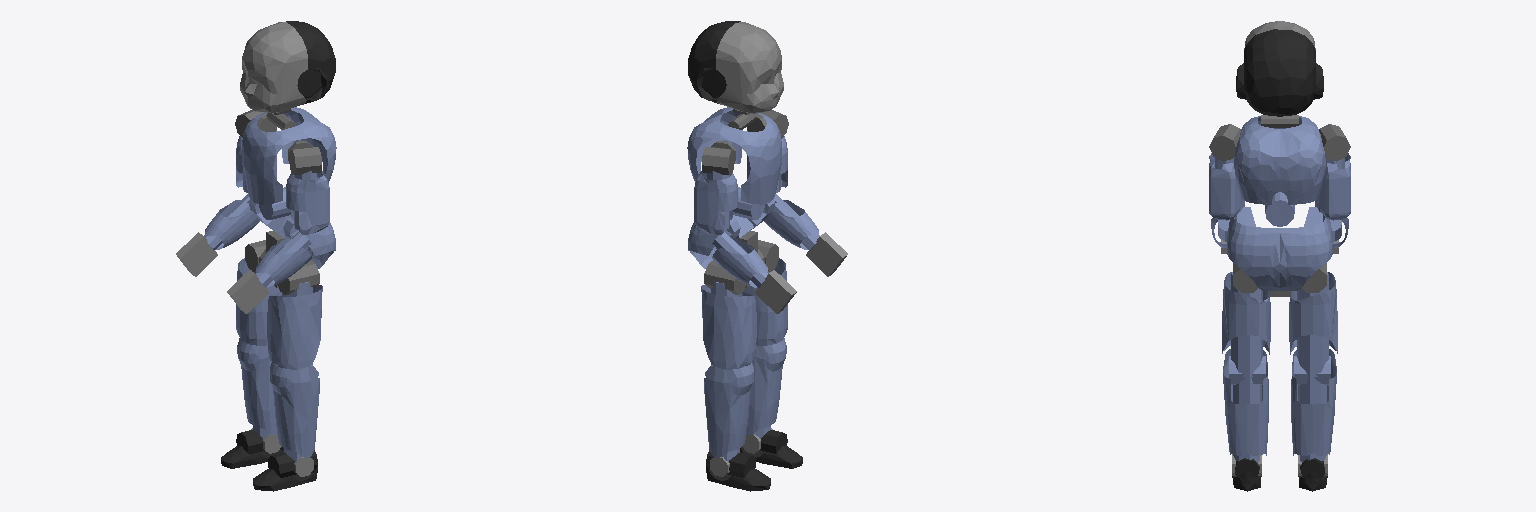
--- Render facts (derived) ---
3 views of the same robot in one strip: view 1: azimuth 30°, elevation 25°; view 2: azimuth 150°, elevation 25°; view 3: azimuth 270°, elevation 25° (orthographic).
Model iCub with 56 links and 55 joints (32 revolute, 23 fixed), rooted at base_link, posed joints at zero except 2 at the middle of their limits (l_elbow = 0.973, r_elbow = 0.973).
Links seen in each view (by area): view 1: head, chest, l_upper_leg, l_lower_leg, r_lower_leg, l_upper_arm, torso_1, l_forearm, r_forearm, l_foot, r_upper_leg, r_foot (+4 smaller); view 2: head, chest, r_upper_leg, r_lower_leg, l_lower_leg, r_upper_arm, torso_1, r_forearm, l_forearm, r_foot, l_upper_leg, l_foot (+4 smaller); view 3: torso_1, chest, head, l_upper_leg, r_upper_leg, r_lower_leg, l_lower_leg, l_upper_arm, r_upper_arm, l_shoulder_2, r_shoulder_2, l_foot (+1 smaller).
Link boxes in pixels (x1,y1,x2,y2): head: (240,21,335,112); chest: (242,107,336,204); l_upper_leg: (267,281,322,380); l_lower_leg: (270,363,319,461); r_lower_leg: (237,338,277,438); l_upper_arm: (286,171,329,234); torso_1: (247,187,335,268); l_forearm: (255,231,311,287); r_forearm: (204,194,259,250); l_foot: (253,450,317,491); r_upper_leg: (236,258,279,345); r_foot: (221,430,283,468); head: (688,21,783,113); chest: (687,107,781,204); r_upper_leg: (701,281,756,380); r_lower_leg: (704,363,753,461); l_lower_leg: (746,338,786,438); r_upper_arm: (694,171,737,234); torso_1: (688,187,776,268); r_forearm: (712,231,768,287); l_forearm: (764,194,819,250); r_foot: (706,450,770,491); l_upper_leg: (744,258,787,345); l_foot: (740,430,802,468); torso_1: (1227,192,1332,290); chest: (1234,116,1325,204); head: (1236,21,1323,116); l_upper_leg: (1222,272,1270,384); r_upper_leg: (1289,272,1337,384); r_lower_leg: (1291,349,1336,462); l_lower_leg: (1223,349,1268,462); l_upper_arm: (1209,153,1244,220); r_upper_arm: (1315,153,1350,220); l_shoulder_2: (1209,124,1240,161); r_shoulder_2: (1319,124,1350,161); l_foot: (1232,458,1261,491).
Size in the robot's own frame: 0.3134 by 0.2951 by 1.04 metres.
Meshes: 28 distinct files referenced, 28 mesh visuals loaded (28 Collada DAE).

robot.urdf — iCub:
<robot name="iCub">
    <link name="base_link" />
    <link name="chest">
        <inertial>
            <mass value="4.81" />
            <origin xyz="0.00222898 0.075 -1.18362e-17" rpy="0 -0 0" />
            <inertia ixx="0.07472" ixy="-3.6e-06" ixz="-4.705e-05" iyy="0.08145" iyz="0.004567" izz="0.01306" />
        </inertial>
        <visual>
            <origin xyz="-0.0055 -6.93889e-18 -3.55271e-18" rpy="0 -1.5708 1.5708" />
            <geometry>
                <mesh filename="app/icubGazeboSim/meshes/icub_simple_collision_chest.dae" scale="1 1 1" />
            </geometry>
            <!-- <material name="material.metal">
                <texture />
                <color rgba="0 0 0 1" />
            </material> -->
        </visual>
        <collision>
            <origin xyz="-0.0055 -6.93889e-18 -3.55271e-18" rpy="0 -1.5708 1.5708" />
            <geometry>
                <mesh filename="app/icubGazeboSim/meshes/icub_simple_collision_chest.dae" scale="1 1 1" />
            </geometry>
        </collision>
    </link>
    <link name="chest_skin_frame">
        <inertial>
            <mass value="0" />
            <origin xyz="0 0 0" rpy="0 -0 0" />
            <inertia ixx="0" ixy="0" ixz="0" iyy="0" iyz="0" izz="0" />
        </inertial>
    </link>
    <link name="codyco_balancing_world">
        <inertial>
            <mass value="0" />
            <origin xyz="0 0 0" rpy="0 -0 0" />
            <inertia ixx="0" ixy="0" ixz="0" iyy="0" iyz="0" izz="0" />
        </inertial>
    </link>
    <link name="head">
        <inertial>
            <mass value="1.33687" />
            <origin xyz="0.0185 -0.1108 6.78454e-18" rpy="0 -0 0" />
            <inertia ixx="0" ixy="0" ixz="2.40741e-35" iyy="0" iyz="0" izz="0" />
        </inertial>
        <visual>
            <origin xyz="0.0045 -0.0235 9.42472e-13" rpy="0 1.5708 -1.5708" />
            <geometry>
                <mesh filename="app/icubGazeboSim/meshes/icub_simple_collision_head.dae" scale="1 1 1" />
            </geometry>
            <!-- <material name="material.metal">
                <texture />
                <color rgba="0 0 0 1" />
            </material> -->
        </visual>
        <collision>
            <origin xyz="0.0045 -0.0235 9.42472e-13" rpy="0 1.5708 -1.5708" />
            <geometry>
                <mesh filename="app/icubGazeboSim/meshes/icub_simple_collision_head.dae" scale="1 1 1" />
            </geometry>
        </collision>
    </link>
    <link name="imu_frame">
        <inertial>
            <mass value="0" />
            <origin xyz="0 0 0" rpy="0 -0 0" />
            <inertia ixx="0" ixy="0" ixz="0" iyy="0" iyz="0" izz="0" />
        </inertial>
    </link>
    <link name="l_ankle_1">
        <inertial>
            <mass value="0.746" />
            <origin xyz="-0.0054 0.00163 0.0172" rpy="0 -0 0" />
            <inertia ixx="0.00063323" ixy="-7.081e-06" ixz="4.1421e-05" iyy="0.00068776" iyz="2.0817e-05" izz="0.000313897" />
        </inertial>
        <visual>
            <origin xyz="1.11022e-16 -5.54343e-12 4.45647e-12" rpy="1.5708 1.53106e-11 1.53105e-11" />
            <geometry>
                <mesh filename="app/icubGazeboSim/meshes/icub_simple_collision_l_ankle_1.dae" scale="1 1 1" />
            </geometry>
            <!-- <material name="material.metal">
                <texture />
                <color rgba="0 0 0 1" />
            </material> -->
        </visual>
        <collision>
            <origin xyz="1.11022e-16 -5.54343e-12 4.45647e-12" rpy="1.5708 1.53106e-11 1.53105e-11" />
            <geometry>
                <mesh filename="app/icubGazeboSim/meshes/icub_simple_collision_l_ankle_1.dae" scale="1 1 1" />
            </geometry>
        </collision>
    </link>
    <link name="l_ankle_2">
        <inertial>
            <mass value="0.2675" />
            <origin xyz="0.017 0 0.042" rpy="0 -0 0" />
            <inertia ixx="0" ixy="0" ixz="0" iyy="0" iyz="0" izz="0" />
        </inertial>
    </link>
    <link name="l_elbow_1">
        <inertial>
            <mass value="0.074" />
            <origin xyz="-0.0013 0.00371 -0.00105" rpy="0 -0 0" />
            <inertia ixx="2.8389e-05" ixy="-5.15e-07" ixz="-4.08e-07" iyy="9.244e-06" iyz="-3.71e-07" izz="2.9968e-05" />
        </inertial>
    </link>
    <link name="l_foot">
        <inertial>
            <mass value="0.5935" />
            <origin xyz="0.007069 -0.000613931 -0.0334154" rpy="0 -0 0" />
            <inertia ixx="0.00193893" ixy="-1.3505e-05" ixz="0.0001823" iyy="0.0030191" iyz="-3.30533e-06" izz="0.00162801" />
        </inertial>
        <visual>
            <origin xyz="-0.017 -5.54343e-12 -0.042" rpy="0 1.5708 -2.0414e-11" />
            <geometry>
                <mesh filename="app/icubGazeboSim/meshes/icub_simple_collision_l_foot.dae" scale="1 1 1" />
            </geometry>
            <!-- <material name="material.metal">
                <texture />
                <color rgba="0 0 0 1" />
            </material> -->
        </visual>
        <collision>
            <origin xyz="-0.017 -5.54343e-12 -0.042" rpy="0 1.5708 -2.0414e-11" />
            <geometry>
                <mesh filename="app/icubGazeboSim/meshes/icub_simple_collision_l_foot.dae" scale="1 1 1" />
            </geometry>
        </collision>
    </link>
    <link name="l_foot_dh_frame">
        <inertial>
            <mass value="0" />
            <origin xyz="0 0 0" rpy="0 -0 0" />
            <inertia ixx="0" ixy="0" ixz="0" iyy="0" iyz="0" izz="0" />
        </inertial>
    </link>
    <link name="l_forearm">
        <inertial>
            <mass value="0.525" />
            <origin xyz="0.000347 0.066 0.00476" rpy="0 -0 0" />
            <inertia ixx="0.000765393" ixy="4.337e-06" ixz="2.39e-07" iyy="0.000164578" iyz="1.9381e-05" izz="0.00069806" />
        </inertial>
        <visual>
            <origin xyz="-0.000143922 -1.25974e-12 0.0204334" rpy="0 1.5708 1.5708" />
            <geometry>
                <mesh filename="app/icubGazeboSim/meshes/icub_simple_collision_l_forearm.dae" scale="1 1 1" />
            </geometry>
            <!-- <material name="material.metal">
                <texture />
                <color rgba="0 0 0 1" />
            </material> -->
        </visual>
        <collision>
            <origin xyz="-0.000143922 -1.25974e-12 0.0204334" rpy="0 1.5708 1.5708" />
            <geometry>
                <mesh filename="app/icubGazeboSim/meshes/icub_simple_collision_l_forearm.dae" scale="1 1 1" />
            </geometry>
        </collision>
    </link>
    <link name="l_forearm_dh_frame">
        <inertial>
            <mass value="0" />
            <origin xyz="0 0 0" rpy="0 -0 0" />
            <inertia ixx="0" ixy="0" ixz="0" iyy="0" iyz="0" izz="0" />
        </inertial>
    </link>
    <link name="l_gripper">
        <inertial>
            <mass value="0" />
            <origin xyz="0 0 0" rpy="0 -0 0" />
            <inertia ixx="0" ixy="0" ixz="0" iyy="0" iyz="0" izz="0" />
        </inertial>
    </link>
    <link name="l_hand">
        <inertial>
            <mass value="0.213" />
            <origin xyz="0.07023 -0.00805 -0.007" rpy="0 -0 0" />
            <inertia ixx="0.000157143" ixy="1.278e-05" ixz="4.823e-06" iyy="0.000247995" iyz="-1.8188e-05" izz="0.000380535" />
        </inertial>
        <visual>
            <origin xyz="-1.25973e-12 0.0204334 -0.000143922" rpy="5.10271e-12 -2.64186e-12 1.49622e-11" />
            <geometry>
                <mesh filename="app/icubGazeboSim/meshes/icub_simple_collision_l_hand.dae" scale="1 1 1" />
            </geometry>
            <!-- <material name="material.metal">
                <texture />
                <color rgba="0 0 0 1" />
            </material> -->
        </visual>
        <collision>
            <origin xyz="-1.25973e-12 0.0204334 -0.000143922" rpy="5.10271e-12 -2.64186e-12 1.49622e-11" />
            <geometry>
                <mesh filename="app/icubGazeboSim/meshes/icub_simple_collision_l_hand.dae" scale="1 1 1" />
            </geometry>
        </collision>
    </link>
    <link name="l_hand_dh_frame">
        <inertial>
            <mass value="0" />
            <origin xyz="0 0 0" rpy="0 -0 0" />
            <inertia ixx="0" ixy="0" ixz="0" iyy="0" iyz="0" izz="0" />
        </inertial>
    </link>
    <link name="l_hip_1">
        <inertial>
            <mass value="0.754" />
            <origin xyz="0 -0.0782 0" rpy="0 -0 0" />
            <inertia ixx="0.000471076" ixy="2.059e-06" ixz="1.451e-06" iyy="0.000346478" iyz="1.545e-06" izz="0.000510315" />
        </inertial>
        <visual>
            <origin xyz="0 0 0" rpy="0 1.5708 -1.5708" />
            <geometry>
                <mesh filename="app/icubGazeboSim/meshes/icub_simple_collision_l_hip_1.dae" scale="1 1 1" />
            </geometry>
            <!-- <material name="material.metal">
                <texture />
                <color rgba="0 0 0 1" />
            </material> -->
        </visual>
        <collision>
            <origin xyz="0 0 0" rpy="0 1.5708 -1.5708" />
            <geometry>
                <mesh filename="app/icubGazeboSim/meshes/icub_simple_collision_l_hip_1.dae" scale="1 1 1" />
            </geometry>
        </collision>
    </link>
    <link name="l_hip_2">
        <inertial>
            <mass value="0.526" />
            <origin xyz="0 0 0.03045" rpy="0 -0 0" />
            <inertia ixx="0.000561583" ixy="-7.4e-08" ixz="1.0835e-05" iyy="0.000738049" iyz="-6.2e-08" izz="0.000294119" />
        </inertial>
        <visual>
            <origin xyz="0 0 0" rpy="0 -1.5708 3.14159" />
            <geometry>
                <mesh filename="app/icubGazeboSim/meshes/icub_simple_collision_l_hip_2.dae" scale="1 1 1" />
            </geometry>
            <!-- <material name="material.metal">
                <texture />
                <color rgba="0 0 0 1" />
            </material> -->
        </visual>
        <collision>
            <origin xyz="0 0 0" rpy="0 -1.5708 3.14159" />
            <geometry>
                <mesh filename="app/icubGazeboSim/meshes/icub_simple_collision_l_hip_2.dae" scale="1 1 1" />
            </geometry>
        </collision>
    </link>
    <link name="l_hip_3">
        <inertial>
            <mass value="0" />
            <origin xyz="0 0 0" rpy="0 -0 0" />
            <inertia ixx="0" ixy="0" ixz="0" iyy="0" iyz="0" izz="0" />
        </inertial>
    </link>
    <link name="l_lower_leg">
        <inertial>
            <mass value="1.264" />
            <origin xyz="-0.1071 0.00182 0.00211" rpy="0 -0 0" />
            <inertia ixx="0.00099895" ixy="-0.000185699" ixz="-6.3147e-05" iyy="0.00445054" iyz="7.86e-07" izz="0.00420766" />
        </inertial>
        <visual>
            <origin xyz="5.55112e-17 2.28232e-12 2.2823e-12" rpy="-3.14159 -2.33487e-16 1.5708" />
            <geometry>
                <mesh filename="app/icubGazeboSim/meshes/icub_simple_collision_l_shank.dae" scale="1 1 1" />
            </geometry>
            <!-- <material name="material.metal">
                <texture />
                <color rgba="0 0 0 1" />
            </material> -->
        </visual>
        <collision>
            <origin xyz="5.55112e-17 2.28232e-12 2.2823e-12" rpy="-3.14159 -2.33487e-16 1.5708" />
            <geometry>
                <mesh filename="app/icubGazeboSim/meshes/icub_simple_collision_l_shank.dae" scale="1 1 1" />
            </geometry>
        </collision>
    </link>
    <link name="l_shoulder_1">
        <inertial>
            <mass value="0.189" />
            <origin xyz="-5e-06 0.0187 -0.00119" rpy="0 -0 0" />
            <inertia ixx="5.4421e-05" ixy="9e-09" ixz="0" iyy="9.331e-06" iyz="-1.7e-08" izz="5.4862e-05" />
        </inertial>
        <visual>
            <origin xyz="3.08642e-14 0.109285 -0.00521101" rpy="0 1.5708 -1.5708" />
            <geometry>
                <mesh filename="app/icubGazeboSim/meshes/icub_simple_collision_l_shoulder_1.dae" scale="1 1 1" />
            </geometry>
            <!-- <material name="material.metal">
                <texture />
                <color rgba="0 0 0 1" />
            </material> -->
        </visual>
        <collision>
            <origin xyz="3.08642e-14 0.109285 -0.00521101" rpy="0 1.5708 -1.5708" />
            <geometry>
                <mesh filename="app/icubGazeboSim/meshes/icub_simple_collision_l_shoulder_1.dae" scale="1 1 1" />
            </geometry>
        </collision>
    </link>
    <link name="l_shoulder_2">
        <inertial>
            <mass value="0.179" />
            <origin xyz="9.4e-05 -0.00627 0.0166" rpy="0 -0 0" />
            <inertia ixx="0.0001372" ixy="4.66e-07" ixz="3.65e-07" iyy="8.2927e-05" iyz="-2.0524e-05" izz="9.9274e-05" />
        </inertial>
        <visual>
            <origin xyz="-0.00154529 -0.00521101 -1.11181e-12" rpy="0 1.5708 1.5708" />
            <geometry>
                <mesh filename="app/icubGazeboSim/meshes/icub_simple_collision_l_shoulder_2.dae" scale="1 1 1" />
            </geometry>
            <!-- <material name="material.metal">
                <texture />
                <color rgba="0 0 0 1" />
            </material> -->
        </visual>
        <collision>
            <origin xyz="-0.00154529 -0.00521101 -1.11181e-12" rpy="0 1.5708 1.5708" />
            <geometry>
                <mesh filename="app/icubGazeboSim/meshes/icub_simple_collision_l_shoulder_2.dae" scale="1 1 1" />
            </geometry>
        </collision>
    </link>
    <link name="l_shoulder_3">
        <inertial>
            <mass value="0.156157" />
            <origin xyz="0.00559398 9.77357e-05 0.0501346" rpy="0 -0 0" />
            <inertia ixx="4.84118e-05" ixy="-5.662e-08" ixz="-4.3618e-06" iyy="5.79067e-05" iyz="-7.42844e-07" izz="6.7103e-05" />
        </inertial>
    </link>
    <link name="l_sole">
        <inertial>
            <mass value="0" />
            <origin xyz="0 0 0" rpy="0 -0 0" />
            <inertia ixx="0" ixy="0" ixz="0" iyy="0" iyz="0" izz="0" />
        </inertial>
    </link>
    <link name="l_upper_arm">
        <inertial>
            <mass value="0.727843" />
            <origin xyz="-0.000156 -9.87e-05 0.0298" rpy="0 -0 0" />
            <inertia ixx="0.000408" ixy="-1.08e-06" ixz="-2.29e-06" iyy="0.00038" iyz="3.57e-06" izz="0.00026" />
        </inertial>
        <visual>
            <origin xyz="-0.0204334 0.000143922 -0.068" rpy="1.15274e-11 4.92958e-12 -1.309" />
            <geometry>
                <mesh filename="app/icubGazeboSim/meshes/icub_simple_collision_l_arm.dae" scale="1 1 1" />
            </geometry>
            <!-- <material name="material.metal">
                <texture />
                <color rgba="0 0 0 1" />
            </material> -->
        </visual>
        <collision>
            <origin xyz="-0.0204334 0.000143922 -0.068" rpy="1.15274e-11 4.92958e-12 -1.309" />
            <geometry>
                <mesh filename="app/icubGazeboSim/meshes/icub_simple_collision_l_arm.dae" scale="1 1 1" />
            </geometry>
        </collision>
    </link>
    <link name="l_upper_arm_dh_frame">
        <inertial>
            <mass value="0" />
            <origin xyz="0 0 0" rpy="0 -0 0" />
            <inertia ixx="0" ixy="0" ixz="0" iyy="0" iyz="0" izz="0" />
        </inertial>
    </link>
    <link name="l_upper_leg">
        <inertial>
            <mass value="2.175" />
            <origin xyz="0.00144 -0.15943 -0.00039" rpy="0 -0 0" />
            <inertia ixx="0.00759107" ixy="-6.726e-05" ixz="2.267e-06" iyy="0.00142302" iyz="3.63726e-05" izz="0.00755385" />
        </inertial>
        <visual>
            <origin xyz="0 0 0" rpy="0 1.5708 1.5708" />
            <geometry>
                <mesh filename="app/icubGazeboSim/meshes/icub_simple_collision_l_thigh.dae" scale="1 1 1" />
            </geometry>
            <!-- <material name="material.metal">
                <texture />
                <color rgba="0 0 0 1" />
            </material> -->
        </visual>
        <collision>
            <origin xyz="0 0 0" rpy="0 1.5708 1.5708" />
            <geometry>
                <mesh filename="app/icubGazeboSim/meshes/icub_simple_collision_l_thigh.dae" scale="1 1 1" />
            </geometry>
        </collision>
    </link>
    <link name="l_wrist_1">
        <inertial>
            <mass value="0" />
            <origin xyz="0 0 0" rpy="0 -0 0" />
            <inertia ixx="0" ixy="0" ixz="0" iyy="0" iyz="0" izz="0" />
        </inertial>
    </link>
    <link name="neck_1">
        <inertial>
            <mass value="0" />
            <origin xyz="0 0 0" rpy="0 -0 0" />
            <inertia ixx="0" ixy="0" ixz="0" iyy="0" iyz="0" izz="0" />
        </inertial>
        <visual>
            <origin xyz="-5.55112e-17 9.62889e-13 -0.0055" rpy="0 -1.5708 -1.5708" />
            <geometry>
                <mesh filename="app/icubGazeboSim/meshes/icub_simple_collision_neck_1.dae" scale="1 1 1" />
            </geometry>
            <!-- <material name="material.metal">
                <texture />
                <color rgba="0 0 0 1" />
            </material> -->
        </visual>
        <collision>
            <origin xyz="-5.55112e-17 9.62889e-13 -0.0055" rpy="0 -1.5708 -1.5708" />
            <geometry>
                <mesh filename="app/icubGazeboSim/meshes/icub_simple_collision_neck_1.dae" scale="1 1 1" />
            </geometry>
        </collision>
    </link>
    <link name="neck_2">
        <inertial>
            <mass value="0" />
            <origin xyz="0 0 0" rpy="0 -0 0" />
            <inertia ixx="0" ixy="0" ixz="0" iyy="0" iyz="0" izz="0" />
        </inertial>
        <visual>
            <origin xyz="-9.62885e-13 0.0055 0.0235" rpy="0 -1.5708 1.5708" />
            <geometry>
                <mesh filename="app/icubGazeboSim/meshes/icub_simple_collision_neck_2.dae" scale="1 1 1" />
            </geometry>
            <!-- <material name="material.metal">
                <texture />
                <color rgba="0 0 0 1" />
            </material> -->
        </visual>
        <collision>
            <origin xyz="-9.62885e-13 0.0055 0.0235" rpy="0 -1.5708 1.5708" />
            <geometry>
                <mesh filename="app/icubGazeboSim/meshes/icub_simple_collision_neck_2.dae" scale="1 1 1" />
            </geometry>
        </collision>
    </link>
    <link name="r_ankle_1">
        <inertial>
            <mass value="0.746" />
            <origin xyz="-0.0054 0.00163 -0.0172" rpy="0 -0 0" />
            <inertia ixx="2.71051e-20" ixy="-1.69407e-21" ixz="1.35525e-20" iyy="5.42101e-20" iyz="3.38813e-21" izz="1.35525e-20" />
        </inertial>
        <visual>
            <origin xyz="1.11022e-16 -1.08717e-12 -4.45647e-12" rpy="-1.5708 -1.53106e-11 5.10376e-12" />
            <geometry>
                <mesh filename="app/icubGazeboSim/meshes/icub_simple_collision_r_ankle_1.dae" scale="1 1 1" />
            </geometry>
            <!-- <material name="material.metal">
                <texture />
                <color rgba="0 0 0 1" />
            </material> -->
        </visual>
        <collision>
            <origin xyz="1.11022e-16 -1.08717e-12 -4.45647e-12" rpy="-1.5708 -1.53106e-11 5.10376e-12" />
            <geometry>
                <mesh filename="app/icubGazeboSim/meshes/icub_simple_collision_r_ankle_1.dae" scale="1 1 1" />
            </geometry>
        </collision>
    </link>
    <link name="r_ankle_2">
        <inertial>
            <mass value="0.2675" />
            <origin xyz="0.017 0 0.042" rpy="0 -0 0" />
            <inertia ixx="0" ixy="0" ixz="0" iyy="0" iyz="0" izz="0" />
        </inertial>
    </link>
    <link name="r_elbow_1">
        <inertial>
            <mass value="0.074" />
            <origin xyz="0.0013 -0.00371 0.00105" rpy="0 -0 0" />
            <inertia ixx="2.84e-05" ixy="-5.02e-07" ixz="-3.99e-07" iyy="9.24e-06" iyz="-3.71e-07" izz="2.99e-05" />
        </inertial>
    </link>
    <link name="r_foot">
        <inertial>
            <mass value="0.5935" />
            <origin xyz="0.007069 0.000613931 -0.0334154" rpy="0 -0 0" />
            <inertia ixx="0.00193893" ixy="1.3505e-05" ixz="0.0001823" iyy="0.0030191" iyz="3.30551e-06" izz="0.00162801" />
        </inertial>
        <visual>
            <origin xyz="-0.017 1.08717e-12 -0.042" rpy="0 1.5708 3.14159" />
            <geometry>
                <mesh filename="app/icubGazeboSim/meshes/icub_simple_collision_r_foot.dae" scale="1 1 1" />
            </geometry>
            <!-- <material name="material.metal">
                <texture />
                <color rgba="0 0 0 1" />
            </material> -->
        </visual>
        <collision>
            <origin xyz="-0.017 1.08717e-12 -0.042" rpy="0 1.5708 3.14159" />
            <geometry>
                <mesh filename="app/icubGazeboSim/meshes/icub_simple_collision_r_foot.dae" scale="1 1 1" />
            </geometry>
        </collision>
    </link>
    <link name="r_foot_dh_frame">
        <inertial>
            <mass value="0" />
            <origin xyz="0 0 0" rpy="0 -0 0" />
            <inertia ixx="0" ixy="0" ixz="0" iyy="0" iyz="0" izz="0" />
        </inertial>
    </link>
    <link name="r_forearm">
        <inertial>
            <mass value="0.525" />
            <origin xyz="-0.000347 -0.066 -0.00476" rpy="0 -0 0" />
            <inertia ixx="0.000766" ixy="5.66e-06" ixz="1.4e-06" iyy="0.000164" iyz="1.82e-05" izz="0.000699" />
        </inertial>
        <visual>
            <origin xyz="0.000143922 -1.07214e-12 -0.0204334" rpy="0 1.5708 1.5708" />
            <geometry>
                <mesh filename="app/icubGazeboSim/meshes/icub_simple_collision_r_forearm.dae" scale="1 1 1" />
            </geometry>
            <!-- <material name="material.metal">
                <texture />
                <color rgba="0 0 0 1" />
            </material> -->
        </visual>
        <collision>
            <origin xyz="0.000143922 -1.07214e-12 -0.0204334" rpy="0 1.5708 1.5708" />
            <geometry>
                <mesh filename="app/icubGazeboSim/meshes/icub_simple_collision_r_forearm.dae" scale="1 1 1" />
            </geometry>
        </collision>
    </link>
    <link name="r_forearm_dh_frame">
        <inertial>
            <mass value="0" />
            <origin xyz="0 0 0" rpy="0 -0 0" />
            <inertia ixx="0" ixy="0" ixz="0" iyy="0" iyz="0" izz="0" />
        </inertial>
    </link>
    <link name="r_gripper">
        <inertial>
            <mass value="0" />
            <origin xyz="0 0 0" rpy="0 -0 0" />
            <inertia ixx="0" ixy="0" ixz="0" iyy="0" iyz="0" izz="0" />
        </inertial>
    </link>
    <link name="r_hand">
        <inertial>
            <mass value="0.213" />
            <origin xyz="0.07023 -0.00805 0.007" rpy="0 -0 0" />
            <inertia ixx="0.000154" ixy="1.26e-05" ixz="-6.08e-06" iyy="0.00025" iyz="1.76e-05" izz="0.000378" />
        </inertial>
        <visual>
            <origin xyz="1.0721e-12 0.0204334 0.000143922" rpy="1.53098e-11 2.00656e-11 -3.14159" />
            <geometry>
                <mesh filename="app/icubGazeboSim/meshes/icub_simple_collision_r_hand.dae" scale="1 1 1" />
            </geometry>
            <!-- <material name="material.metal">
                <texture />
                <color rgba="0 0 0 1" />
            </material> -->
        </visual>
        <collision>
            <origin xyz="1.0721e-12 0.0204334 0.000143922" rpy="1.53098e-11 2.00656e-11 -3.14159" />
            <geometry>
                <mesh filename="app/icubGazeboSim/meshes/icub_simple_collision_r_hand.dae" scale="1 1 1" />
            </geometry>
        </collision>
    </link>
    <link name="r_hand_dh_frame">
        <inertial>
            <mass value="0" />
            <origin xyz="0 0 0" rpy="0 -0 0" />
            <inertia ixx="0" ixy="0" ixz="0" iyy="0" iyz="0" izz="0" />
        </inertial>
    </link>
    <link name="r_hip_1">
        <inertial>
            <mass value="0.754" />
            <origin xyz="0 -0.0782 0" rpy="0 -0 0" />
            <inertia ixx="0" ixy="0" ixz="0" iyy="0" iyz="0" izz="0" />
        </inertial>
        <visual>
            <origin xyz="0 0 0" rpy="0 -1.5708 -1.5708" />
            <geometry>
                <mesh filename="app/icubGazeboSim/meshes/icub_simple_collision_r_hip_1.dae" scale="1 1 1" />
            </geometry>
            <!-- <material name="material.metal">
                <texture />
                <color rgba="0 0 0 1" />
            </material> -->
        </visual>
        <collision>
            <origin xyz="0 0 0" rpy="0 -1.5708 -1.5708" />
            <geometry>
                <mesh filename="app/icubGazeboSim/meshes/icub_simple_collision_r_hip_1.dae" scale="1 1 1" />
            </geometry>
        </collision>
    </link>
    <link name="r_hip_2">
        <inertial>
            <mass value="0.526" />
            <origin xyz="0 0 0.03045" rpy="0 -0 0" />
            <inertia ixx="-5.42101e-20" ixy="0" ixz="0" iyy="-5.42101e-20" iyz="0" izz="0" />
        </inertial>
        <visual>
            <origin xyz="0 0 0" rpy="0 -1.5708 1.02066e-11" />
            <geometry>
                <mesh filename="app/icubGazeboSim/meshes/icub_simple_collision_r_hip_2.dae" scale="1 1 1" />
            </geometry>
            <!-- <material name="material.metal">
                <texture />
                <color rgba="0 0 0 1" />
            </material> -->
        </visual>
        <collision>
            <origin xyz="0 0 0" rpy="0 -1.5708 1.02066e-11" />
            <geometry>
                <mesh filename="app/icubGazeboSim/meshes/icub_simple_collision_r_hip_2.dae" scale="1 1 1" />
            </geometry>
        </collision>
    </link>
    <link name="r_hip_3">
        <inertial>
            <mass value="0" />
            <origin xyz="0 0 0" rpy="0 -0 0" />
            <inertia ixx="0" ixy="0" ixz="0" iyy="0" iyz="0" izz="0" />
        </inertial>
    </link>
    <link name="r_lower_leg">
        <inertial>
            <mass value="1.264" />
            <origin xyz="-0.1071 0.00182 -0.00211" rpy="0 -0 0" />
            <inertia ixx="-6.2511e-19" ixy="5.42101e-20" ixz="-5.42101e-20" iyy="-1.73472e-18" iyz="8.47033e-22" izz="-1.73472e-18" />
        </inertial>
        <visual>
            <origin xyz="5.55112e-17 2.28232e-12 -8.32667e-17" rpy="3.14159 -1.14424e-17 1.5708" />
            <geometry>
                <mesh filename="app/icubGazeboSim/meshes/icub_simple_collision_r_shank.dae" scale="1 1 1" />
            </geometry>
            <!-- <material name="material.metal">
                <texture />
                <color rgba="0 0 0 1" />
            </material> -->
        </visual>
        <collision>
            <origin xyz="5.55112e-17 2.28232e-12 -8.32667e-17" rpy="3.14159 -1.14424e-17 1.5708" />
            <geometry>
                <mesh filename="app/icubGazeboSim/meshes/icub_simple_collision_r_shank.dae" scale="1 1 1" />
            </geometry>
        </collision>
    </link>
    <link name="r_shoulder_1">
        <inertial>
            <mass value="0.189" />
            <origin xyz="5e-06 0.0187 0.00119" rpy="0 -0 0" />
            <inertia ixx="0.000123" ixy="2.1e-08" ixz="-1e-09" iyy="2.44e-05" iyz="4.22e-06" izz="0.000113" />
        </inertial>
        <visual>
            <origin xyz="-3.08642e-14 0.109285 0.00521101" rpy="0 1.5708 1.5708" />
            <geometry>
                <mesh filename="app/icubGazeboSim/meshes/icub_simple_collision_r_shoulder_1.dae" scale="1 1 1" />
            </geometry>
            <!-- <material name="material.metal">
                <texture />
                <color rgba="0 0 0 1" />
            </material> -->
        </visual>
        <collision>
            <origin xyz="-3.08642e-14 0.109285 0.00521101" rpy="0 1.5708 1.5708" />
            <geometry>
                <mesh filename="app/icubGazeboSim/meshes/icub_simple_collision_r_shoulder_1.dae" scale="1 1 1" />
            </geometry>
        </collision>
    </link>
    <link name="r_shoulder_2">
        <inertial>
            <mass value="0.179" />
            <origin xyz="-9.4e-05 -0.00627 -0.0166" rpy="0 -0 0" />
            <inertia ixx="0.000137" ixy="-4.53e-07" ixz="2.03e-07" iyy="8.3e-05" iyz="2.07e-05" izz="9.93e-05" />
        </inertial>
        <visual>
            <origin xyz="-0.00154529 -0.00521101 -1.11181e-12" rpy="0 -1.5708 1.5708" />
            <geometry>
                <mesh filename="app/icubGazeboSim/meshes/icub_simple_collision_r_shoulder_2.dae" scale="1 1 1" />
            </geometry>
            <!-- <material name="material.metal">
                <texture />
                <color rgba="0 0 0 1" />
            </material> -->
        </visual>
        <collision>
            <origin xyz="-0.00154529 -0.00521101 -1.11181e-12" rpy="0 -1.5708 1.5708" />
            <geometry>
                <mesh filename="app/icubGazeboSim/meshes/icub_simple_collision_r_shoulder_2.dae" scale="1 1 1" />
            </geometry>
        </collision>
    </link>
    <link name="r_shoulder_3">
        <inertial>
            <mass value="0.155" />
            <origin xyz="0.00553932 -2.47652e-05 0.0493895" rpy="0 -0 0" />
            <inertia ixx="3.44122e-05" ixy="3.56977e-07" ixz="-3.95372e-06" iyy="4.33544e-05" iyz="-6.5128e-06" izz="6.49393e-05" />
        </inertial>
    </link>
    <link name="r_sole">
        <inertial>
            <mass value="0" />
            <origin xyz="0 0 0" rpy="0 -0 0" />
            <inertia ixx="0" ixy="0" ixz="0" iyy="0" iyz="0" izz="0" />
        </inertial>
    </link>
    <link name="r_upper_arm">
        <inertial>
            <mass value="0.729" />
            <origin xyz="-0.00015906 8.28733e-05 0.0298828" rpy="0 -0 0" />
            <inertia ixx="0.000408" ixy="-1.08e-06" ixz="-2.29e-06" iyy="0.00038" iyz="3.57e-06" izz="0.00026" />
        </inertial>
        <visual>
            <origin xyz="-0.0204334 -0.000143922 -0.068" rpy="-3.14159 -1.51363e-11 1.309" />
            <geometry>
                <mesh filename="app/icubGazeboSim/meshes/icub_simple_collision_r_arm.dae" scale="1 1 1" />
            </geometry>
            <!-- <material name="material.metal">
                <texture />
                <color rgba="0 0 0 1" />
            </material> -->
        </visual>
        <collision>
            <origin xyz="-0.0204334 -0.000143922 -0.068" rpy="-3.14159 -1.51363e-11 1.309" />
            <geometry>
                <mesh filename="app/icubGazeboSim/meshes/icub_simple_collision_r_arm.dae" scale="1 1 1" />
            </geometry>
        </collision>
    </link>
    <link name="r_upper_arm_dh_frame">
        <inertial>
            <mass value="0" />
            <origin xyz="0 0 0" rpy="0 -0 0" />
            <inertia ixx="0" ixy="0" ixz="0" iyy="0" iyz="0" izz="0" />
        </inertial>
    </link>
    <link name="r_upper_leg">
        <inertial>
            <mass value="2.175" />
            <origin xyz="0.00144 -0.15943 0.00039" rpy="0 -0 0" />
            <inertia ixx="0" ixy="0" ixz="0" iyy="4.07592e-18" iyz="-2.71051e-20" izz="0" />
        </inertial>
        <visual>
            <origin xyz="0 0 0" rpy="0 -1.5708 1.5708" />
            <geometry>
                <mesh filename="app/icubGazeboSim/meshes/icub_simple_collision_r_thigh.dae" scale="1 1 1" />
            </geometry>
            <!-- <material name="material.metal">
                <texture />
                <color rgba="0 0 0 1" />
            </material> -->
        </visual>
        <collision>
            <origin xyz="0 0 0" rpy="0 -1.5708 1.5708" />
            <geometry>
                <mesh filename="app/icubGazeboSim/meshes/icub_simple_collision_r_thigh.dae" scale="1 1 1" />
            </geometry>
        </collision>
    </link>
    <link name="r_wrist_1">
        <inertial>
            <mass value="0" />
            <origin xyz="0 0 0" rpy="0 -0 0" />
            <inertia ixx="0" ixy="0" ixz="0" iyy="0" iyz="0" izz="0" />
        </inertial>
    </link>
    <link name="root_link">
        <inertial>
            <mass value="4.72" />
            <origin xyz="0 0 0" rpy="0 -0 0" />
            <inertia ixx="0" ixy="0" ixz="0" iyy="0" iyz="0" izz="0" />
        </inertial>
        <visual>
            <origin xyz="0 0 0" rpy="0 -0 0" />
            <geometry>
                <mesh filename="app/icubGazeboSim/meshes/icub_simple_collision_root_link.dae" scale="1 1 1" />
            </geometry>
            <!-- <material name="material.metal">
                <texture />
                <color rgba="0 0 0 1" />
            </material> -->
        </visual>
        <collision>
            <origin xyz="0 0 0" rpy="0 -0 0" />
            <geometry>
                <mesh filename="app/icubGazeboSim/meshes/icub_simple_collision_root_link.dae" scale="1 1 1" />
            </geometry>
        </collision>
    </link>
    <link name="torso">
        <inertial>
            <mass value="0" />
            <origin xyz="0 0 0" rpy="0 -0 0" />
            <inertia ixx="0" ixy="0" ixz="0" iyy="0" iyz="0" izz="0" />
        </inertial>
    </link>
    <link name="torso_1">
        <inertial>
            <mass value="0" />
            <origin xyz="0 0 0" rpy="0 -0 0" />
            <inertia ixx="0.0004544" ixy="-4.263e-05" ixz="-3.889e-08" iyy="0.001141" iyz="0" izz="0.001236" />
        </inertial>
        <visual>
            <origin xyz="0 0 0" rpy="-1.5708 5.10314e-12 1.11022e-16" />
            <geometry>
                <mesh filename="app/icubGazeboSim/meshes/icub_simple_collision_lap_belt_1.dae" scale="1 1 1" />
            </geometry>
            <!-- <material name="material.metal">
                <texture />
                <color rgba="0 0 0 1" />
            </material> -->
        </visual>
        <collision>
            <origin xyz="0 0 0" rpy="-1.5708 5.10314e-12 1.11022e-16" />
            <geometry>
                <mesh filename="app/icubGazeboSim/meshes/icub_simple_collision_lap_belt_1.dae" scale="1 1 1" />
            </geometry>
        </collision>
    </link>
    <link name="torso_2">
        <inertial>
            <mass value="0" />
            <origin xyz="0 0 0" rpy="0 -0 0" />
            <inertia ixx="0.0005308" ixy="-1.923e-06" ixz="5.095e-05" iyy="0.002031" iyz="-3.849e-07" izz="0.001803" />
        </inertial>
    </link>
    <joint name="torso_yaw" type="revolute">
        <origin xyz="-7.46298e-34 -0.0055 0" rpy="-1.5708 -0 -1.5708" />
        <axis xyz="0 -1 6.12323e-17" />
        <parent link="torso_2" />
        <child link="chest" />
        <dynamics damping="1" friction="0" />
        <limit effort="80" velocity="100" lower="-1.02974" upper="1.02974" />
    </joint>
    <joint name="chest_skin_frame_fixed_joint" type="fixed">
        <origin xyz="0.00231 0.1933 -1.18362e-17" rpy="-1.8747e-33 5.77686e-66 6.16298e-33" />
        <axis xyz="0 0 0" />
        <parent link="chest" />
        <child link="chest_skin_frame" />
    </joint>
    <joint name="codyco_balancing_world_fixed_joint" type="fixed">
        <origin xyz="-0.0353 -7.60894e-35 -0.001" rpy="3.14159 -0 0" />
        <axis xyz="0 0 0" />
        <parent link="l_foot" />
        <child link="codyco_balancing_world" />
    </joint>
    <joint name="neck_yaw" type="revolute">
        <origin xyz="-5.77779e-34 0 0" rpy="-1.5708 -0 1.5708" />
        <axis xyz="0 -1 6.12323e-17" />
        <parent link="neck_2" />
        <child link="head" />
        <dynamics damping="1" friction="0" />
        <limit effort="20" velocity="100" lower="-0.959931" upper="0.959931" />
    </joint>
    <joint name="imu_frame_fixed_joint" type="fixed">
        <origin xyz="0.0185 -0.1108 0.0066" rpy="1.5708 -0 0" />
        <axis xyz="0 0 0" />
        <parent link="head" />
        <child link="imu_frame" />
    </joint>
    <joint name="l_ankle_pitch" type="revolute">
        <origin xyz="-0.213 0 0" rpy="-1.5708 0 0" />
        <axis xyz="0 -1 6.12323e-17" />
        <parent link="l_lower_leg" />
        <child link="l_ankle_1" />
        <dynamics damping="1" friction="0" />
        <limit effort="24" velocity="100" lower="-0.733038" upper="0.366519" />
    </joint>
    <joint name="l_ankle_roll" type="revolute">
        <origin xyz="0 0 0" rpy="0 -1.5708 0" />
        <axis xyz="1 0 0" />
        <parent link="l_ankle_1" />
        <child link="l_ankle_2" />
        <dynamics damping="1" friction="0" />
        <limit effort="11" velocity="100" lower="-0.418879" upper="0.418879" />
    </joint>
    <joint name="l_elbow" type="revolute">
        <origin xyz="0 0 0.08428" rpy="-6.12323e-17 0 0" />
        <axis xyz="0 1 6.12323e-17" />
        <parent link="l_upper_arm" />
        <child link="l_elbow_1" />
        <dynamics damping="1" friction="0" />
        <limit effort="20" velocity="100" lower="0.0959931" upper="1.85005" />
    </joint>
    <joint name="l_foot_ft_sensor" type="fixed">
        <origin xyz="0.017 0 0.042" rpy="0 -0 0" />
        <axis xyz="0 0 0" />
        <parent link="l_ankle_2" />
        <child link="l_foot" />
    </joint>
    <joint name="l_foot_dh_frame_fixed_joint" type="fixed">
        <origin xyz="-0.0353 0 -0.001" rpy="0 1.5708 -0" />
        <axis xyz="0 0 0" />
        <parent link="l_foot" />
        <child link="l_foot_dh_frame" />
    </joint>
    <joint name="l_wrist_prosup" type="revolute">
        <origin xyz="-0.015 0 0" rpy="1.5708 -0 -1.5708" />
        <axis xyz="0 1 6.12323e-17" />
        <parent link="l_elbow_1" />
        <child link="l_forearm" />
        <dynamics damping="1" friction="0" />
        <limit effort="0.45" velocity="100" lower="-0.872665" upper="0.872665" />
    </joint>
    <joint name="l_forearm_dh_frame_fixed_joint" type="fixed">
        <origin xyz="0 0.1373 8.4072e-18" rpy="0 -0 0" />
        <axis xyz="0 0 0" />
        <parent link="l_forearm" />
        <child link="l_forearm_dh_frame" />
    </joint>
    <joint name="l_gripper_joint" type="fixed">
        <origin xyz="0.0625 0 -0.016" rpy="0 -0 0" />
        <axis xyz="0 0 0" />
        <parent link="l_hand" />
        <child link="l_gripper" />
    </joint>
    <joint name="l_wrist_yaw" type="revolute">
        <origin xyz="0 0 0" rpy="0 -0 0" />
        <axis xyz="0 0 1" />
        <parent link="l_wrist_1" />
        <child link="l_hand" />
        <dynamics damping="1" friction="0" />
        <limit effort="0.65" velocity="100" lower="-0.436332" upper="0.436332" />
    </joint>
    <joint name="l_hand_dh_frame_fixed_joint" type="fixed">
        <origin xyz="0.0625 0 -0.016" rpy="0 -0 0" />
        <axis xyz="0 0 0" />
        <parent link="l_hand" />
        <child link="l_hand_dh_frame" />
    </joint>
    <joint name="l_hip_pitch" type="revolute">
        <origin xyz="0 -0.0681 -0.1199" rpy="0 1.5708 -3.14159" />
        <axis xyz="0 -1 6.12323e-17" />
        <parent link="root_link" />
        <child link="l_hip_1" />
        <dynamics damping="1" friction="0" />
        <limit effort="84" velocity="100" lower="-0.767945" upper="2.30383" />
    </joint>
    <joint name="l_hip_roll" type="revolute">
        <origin xyz="0 0 0" rpy="0 -1.5708 3.14159" />
        <axis xyz="1 0 -6.12323e-17" />
        <parent link="l_hip_1" />
        <child link="l_hip_2" />
        <dynamics damping="1" friction="0" />
        <limit effort="84" velocity="100" lower="-2.07694" upper="0.296706" />
    </joint>
    <joint name="l_leg_ft_sensor" type="fixed">
        <origin xyz="0 0 0.0665" rpy="0 -0 0" />
        <axis xyz="0 0 0" />
        <parent link="l_hip_2" />
        <child link="l_hip_3" />
    </joint>
    <joint name="l_knee" type="revolute">
        <origin xyz="0 -0.2236 -1.36916e-17" rpy="3.14159 -1.2326e-32 1.5708" />
        <axis xyz="0 1.22465e-16 -1" />
        <parent link="l_upper_leg" />
        <child link="l_lower_leg" />
        <dynamics damping="1" friction="0" />
        <limit effort="30" velocity="100" lower="-2.18166" upper="0.401426" />
    </joint>
    <joint name="l_shoulder_pitch" type="revolute">
        <origin xyz="0.00525 0.1433 -0.11026" rpy="1.309 5.55112e-17 1.5708" />
        <axis xyz="0 -1 5.55112e-17" />
        <parent link="chest" />
        <child link="l_shoulder_1" />
        <dynamics damping="1" friction="0" />
        <limit effort="84" velocity="100" lower="-1.65806" upper="0.0872665" />
    </joint>
    <joint name="l_shoulder_roll" type="revolute">
        <origin xyz="0 0 0" rpy="1.5708 -0 -1.5708" />
        <axis xyz="0 1 6.12323e-17" />
        <parent link="l_shoulder_1" />
        <child link="l_shoulder_2" />
        <dynamics damping="1" friction="0" />
        <limit effort="84" velocity="100" lower="0" upper="2.80649" />
    </joint>
    <joint name="l_shoulder_yaw" type="revolute">
        <origin xyz="4.33681e-19 1.73472e-18 0" rpy="6.12323e-17 -0 1.309" />
        <axis xyz="0 6.12323e-17 1" />
        <parent link="l_shoulder_2" />
        <child link="l_shoulder_3" />
        <dynamics damping="1" friction="0" />
        <limit effort="34" velocity="100" lower="-0.645772" upper="1.74533" />
    </joint>
    <joint name="l_sole_fixed_joint" type="fixed">
        <origin xyz="-0.0353 -7.60894e-35 -0.001" rpy="3.14159 -0 0" />
        <axis xyz="0 0 0" />
        <parent link="l_foot" />
        <child link="l_sole" />
    </joint>
    <joint name="l_arm_ft_sensor" type="fixed">
        <origin xyz="0.015 9.36797e-18 0.068" rpy="0 -0 0" />
        <axis xyz="0 0 0" />
        <parent link="l_shoulder_3" />
        <child link="l_upper_arm" />
    </joint>
    <joint name="l_upper_arm_dh_frame_fixed_joint" type="fixed">
        <origin xyz="0 0 0.08428" rpy="-1.5708 0 0" />
        <axis xyz="0 0 0" />
        <parent link="l_upper_arm" />
        <child link="l_upper_arm_dh_frame" />
    </joint>
    <joint name="l_hip_yaw" type="revolute">
        <origin xyz="0 0 -0.0665" rpy="-1.5708 -6.16298e-33 -6.12323e-17" />
        <axis xyz="0 1 6.12323e-17" />
        <parent link="l_hip_3" />
        <child link="l_upper_leg" />
        <dynamics damping="1" friction="0" />
        <limit effort="40" velocity="100" lower="-1.37881" upper="1.37881" />
    </joint>
    <joint name="l_wrist_pitch" type="revolute">
        <origin xyz="0 0.1373 8.4072e-18" rpy="1.5708 -0 1.5708" />
        <axis xyz="0 1 6.12323e-17" />
        <parent link="l_forearm" />
        <child link="l_wrist_1" />
        <dynamics damping="1" friction="0" />
        <limit effort="0.65" velocity="100" lower="-1.13446" upper="0.174533" />
    </joint>
    <joint name="neck_pitch" type="revolute">
        <origin xyz="0.00231 0.1933 -1.18362e-17" rpy="1.5708 -0 1.5708" />
        <axis xyz="0 1 6.12323e-17" />
        <parent link="chest" />
        <child link="neck_1" />
        <dynamics damping="1" friction="0" />
        <limit effort="20" velocity="100" lower="-0.698132" upper="0.523599" />
    </joint>
    <joint name="neck_roll" type="revolute">
        <origin xyz="0.0095 0 0" rpy="-1.5708 -0 -1.5708" />
        <axis xyz="0 -1 6.12323e-17" />
        <parent link="neck_1" />
        <child link="neck_2" />
        <dynamics damping="1" friction="0" />
        <limit effort="20" velocity="100" lower="-1.22173" upper="1.0472" />
    </joint>
    <joint name="r_ankle_pitch" type="revolute">
        <origin xyz="-0.213 0 0" rpy="1.5708 -0 0" />
        <axis xyz="0 1 6.12323e-17" />
        <parent link="r_lower_leg" />
        <child link="r_ankle_1" />
        <dynamics damping="1" friction="0" />
        <limit effort="24" velocity="100" lower="-0.733038" upper="0.366519" />
    </joint>
    <joint name="r_ankle_roll" type="revolute">
        <origin xyz="0 0 0" rpy="0 1.5708 3.14159" />
        <axis xyz="-1 1.22465e-16 0" />
        <parent link="r_ankle_1" />
        <child link="r_ankle_2" />
        <dynamics damping="1" friction="0" />
        <limit effort="11" velocity="100" lower="-0.418879" upper="0.418879" />
    </joint>
    <joint name="r_elbow" type="revolute">
        <origin xyz="0 0 0.08428" rpy="3.14159 -0 3.14159" />
        <axis xyz="0 1 6.12323e-17" />
        <parent link="r_upper_arm" />
        <child link="r_elbow_1" />
        <dynamics damping="1" friction="0" />
        <limit effort="20" velocity="100" lower="0.0959931" upper="1.85005" />
    </joint>
    <joint name="r_foot_ft_sensor" type="fixed">
        <origin xyz="0.017 0 0.042" rpy="0 -0 0" />
        <axis xyz="0 0 0" />
        <parent link="r_ankle_2" />
        <child link="r_foot" />
    </joint>
    <joint name="r_foot_dh_frame_fixed_joint" type="fixed">
        <origin xyz="-0.0353 0 -0.001" rpy="0 1.5708 -0" />
        <axis xyz="0 0 0" />
        <parent link="r_foot" />
        <child link="r_foot_dh_frame" />
    </joint>
    <joint name="r_wrist_prosup" type="revolute">
        <origin xyz="0.015 0 0" rpy="1.5708 -0 -1.5708" />
        <axis xyz="0 1 6.12323e-17" />
        <parent link="r_elbow_1" />
        <child link="r_forearm" />
        <dynamics damping="1" friction="0" />
        <limit effort="0.45" velocity="100" lower="-0.872665" upper="0.872665" />
    </joint>
    <joint name="r_forearm_dh_frame_fixed_joint" type="fixed">
        <origin xyz="0 -0.1373 -8.4072e-18" rpy="0 -0 0" />
        <axis xyz="0 0 0" />
        <parent link="r_forearm" />
        <child link="r_forearm_dh_frame" />
    </joint>
    <joint name="r_gripper_joint" type="fixed">
        <origin xyz="0.0625 0 0.016" rpy="0 -0 0" />
        <axis xyz="0 0 0" />
        <parent link="r_hand" />
        <child link="r_gripper" />
    </joint>
    <joint name="r_wrist_yaw" type="revolute">
        <origin xyz="0 0 0" rpy="0 -0 3.14159" />
        <axis xyz="0 0 1" />
        <parent link="r_wrist_1" />
        <child link="r_hand" />
        <dynamics damping="1" friction="0" />
        <limit effort="0.65" velocity="100" lower="-0.436332" upper="0.436332" />
    </joint>
    <joint name="r_hand_dh_frame_fixed_joint" type="fixed">
        <origin xyz="0.0625 0 0.016" rpy="0 -0 0" />
        <axis xyz="0 0 0" />
        <parent link="r_hand" />
        <child link="r_hand_dh_frame" />
    </joint>
    <joint name="r_hip_pitch" type="revolute">
        <origin xyz="0 0.0681 -0.1199" rpy="0 1.5708 6.12323e-17" />
        <axis xyz="0 1 6.12323e-17" />
        <parent link="root_link" />
        <child link="r_hip_1" />
        <dynamics damping="1" friction="0" />
        <limit effort="84" velocity="100" lower="-0.767945" upper="2.30383" />
    </joint>
    <joint name="r_hip_roll" type="revolute">
        <origin xyz="0 0 0" rpy="0 1.5708 -6.12323e-17" />
        <axis xyz="-1 0 6.12323e-17" />
        <parent link="r_hip_1" />
        <child link="r_hip_2" />
        <dynamics damping="1" friction="0" />
        <limit effort="84" velocity="100" lower="-2.07694" upper="0.296706" />
    </joint>
    <joint name="r_leg_ft_sensor" type="fixed">
        <origin xyz="0 0 0.0665" rpy="0 -0 0" />
        <axis xyz="0 0 0" />
        <parent link="r_hip_2" />
        <child link="r_hip_3" />
    </joint>
    <joint name="r_knee" type="revolute">
        <origin xyz="0 -0.2236 1.36916e-17" rpy="3.14159 -1.2326e-32 1.5708" />
        <axis xyz="0 1.22465e-16 -1" />
        <parent link="r_upper_leg" />
        <child link="r_lower_leg" />
        <dynamics damping="1" friction="0" />
        <limit effort="30" velocity="100" lower="-2.18166" upper="0.401426" />
    </joint>
    <joint name="r_shoulder_pitch" type="revolute">
        <origin xyz="0.00525 0.1433 0.11026" rpy="-1.309 -0 1.5708" />
        <axis xyz="0 1 5.55112e-17" />
        <parent link="chest" />
        <child link="r_shoulder_1" />
        <dynamics damping="1" friction="0" />
        <limit effort="84" velocity="100" lower="-1.65806" upper="0.0872665" />
    </joint>
    <joint name="r_shoulder_roll" type="revolute">
        <origin xyz="0 0 0" rpy="-1.5708 -0 -1.5708" />
        <axis xyz="0 -1 6.12323e-17" />
        <parent link="r_shoulder_1" />
        <child link="r_shoulder_2" />
        <dynamics damping="1" friction="0" />
        <limit effort="84" velocity="100" lower="0" upper="2.80649" />
    </joint>
    <joint name="r_shoulder_yaw" type="revolute">
        <origin xyz="-4.33681e-19 0 0" rpy="3.14159 -0 1.309" />
        <axis xyz="0 6.12323e-17 -1" />
        <parent link="r_shoulder_2" />
        <child link="r_shoulder_3" />
        <dynamics damping="1" friction="0" />
        <limit effort="34" velocity="100" lower="-0.645772" upper="1.74533" />
    </joint>
    <joint name="r_sole_fixed_joint" type="fixed">
        <origin xyz="-0.0353 -1.38778e-17 -0.001" rpy="3.14159 -0 0" />
        <axis xyz="0 0 0" />
        <parent link="r_foot" />
        <child link="r_sole" />
    </joint>
    <joint name="r_arm_ft_sensor" type="fixed">
        <origin xyz="0.015 -8.93429e-18 0.068" rpy="0 -0 0" />
        <axis xyz="0 0 0" />
        <parent link="r_shoulder_3" />
        <child link="r_upper_arm" />
    </joint>
    <joint name="r_upper_arm_dh_frame_fixed_joint" type="fixed">
        <origin xyz="0 0 0.08428" rpy="1.5708 -0 3.14159" />
        <axis xyz="0 0 0" />
        <parent link="r_upper_arm" />
        <child link="r_upper_arm_dh_frame" />
    </joint>
    <joint name="r_hip_yaw" type="revolute">
        <origin xyz="0 0 -0.0665" rpy="-1.5708 -6.16298e-33 6.12323e-17" />
        <axis xyz="0 -1 6.12323e-17" />
        <parent link="r_hip_3" />
        <child link="r_upper_leg" />
        <dynamics damping="1" friction="0" />
        <limit effort="40" velocity="100" lower="-1.37881" upper="1.37881" />
    </joint>
    <joint name="r_wrist_pitch" type="revolute">
        <origin xyz="0 -0.1373 -8.4072e-18" rpy="1.5708 -0 1.5708" />
        <axis xyz="0 1 6.12323e-17" />
        <parent link="r_forearm" />
        <child link="r_wrist_1" />
        <dynamics damping="1" friction="0" />
        <limit effort="0.65" velocity="100" lower="-1.13446" upper="0.174533" />
    </joint>
    <joint name="base_fixed_joint" type="fixed">
        <origin xyz="0 0 0" rpy="0 -0 0" />
        <axis xyz="0 0 0" />
        <parent link="base_link" />
        <child link="root_link" />
    </joint>
    <joint name="torso_joint" type="fixed">
        <origin xyz="0.00231 0.1933 -1.18362e-17" rpy="0 -0 0" />
        <axis xyz="0 0 0" />
        <parent link="chest" />
        <child link="torso" />
    </joint>
    <joint name="torso_pitch" type="revolute">
        <origin xyz="0 0 0" rpy="0 -1.5708 3.14159" />
        <axis xyz="0 1 6.12323e-17" />
        <parent link="root_link" />
        <child link="torso_1" />
        <dynamics damping="1" friction="0" />
        <limit effort="36" velocity="100" lower="-0.383972" upper="1.46608" />
    </joint>
    <joint name="torso_roll" type="revolute">
        <origin xyz="0.032 -2.67276e-51 0" rpy="1.5708 -0 -1.5708" />
        <axis xyz="0 1 6.12323e-17" />
        <parent link="torso_1" />
        <child link="torso_2" />
        <dynamics damping="1" friction="0" />
        <limit effort="80" velocity="100" lower="-0.680678" upper="0.680678" />
    </joint>
    <!-- <gazebo reference="l_arm_ft_sensor">
        <sensor name="left_arm_ft" type="force_torque">
            <force_torque>
                <frame>child</frame>
                <measure_direction>child_to_parent</measure_direction>
            </force_torque>
            <update_rate>100</update_rate>
            <always_on>1</always_on>
        </sensor>
    </gazebo>
    <gazebo reference="r_arm_ft_sensor">
        <sensor name="right_arm_ft" type="force_torque">
            <force_torque>
                <frame>child</frame>
                <measure_direction>child_to_parent</measure_direction>
            </force_torque>
            <update_rate>100</update_rate>
            <always_on>1</always_on>
        </sensor>
    </gazebo>
    <gazebo reference="l_leg_ft_sensor">
        <sensor name="left_leg_ft" type="force_torque">
            <force_torque>
                <frame>child</frame>
                <measure_direction>child_to_parent</measure_direction>
            </force_torque>
            <update_rate>100</update_rate>
            <always_on>1</always_on>
        </sensor>
    </gazebo>
    <gazebo reference="r_leg_ft_sensor">
        <sensor name="right_leg_ft" type="force_torque">
            <force_torque>
                <frame>child</frame>
                <measure_direction>child_to_parent</measure_direction>
            </force_torque>
            <update_rate>100</update_rate>
            <always_on>1</always_on>
        </sensor>
    </gazebo>
    <gazebo reference="l_foot_ft_sensor">
        <sensor name="left_foot_ft" type="force_torque">
            <force_torque>
                <frame>child</frame>
                <measure_direction>child_to_parent</measure_direction>
            </force_torque>
            <update_rate>100</update_rate>
            <always_on>1</always_on>
        </sensor>
    </gazebo>
    <gazebo reference="r_foot_ft_sensor">
        <sensor name="right_foot_ft" type="force_torque">
            <force_torque>
                <frame>child</frame>
                <measure_direction>child_to_parent</measure_direction>
            </force_torque>
            <update_rate>100</update_rate>
            <always_on>1</always_on>
        </sensor>
    </gazebo>
    <sensor type="force_torque" name="l_arm_ft_sensor">
        <parent joint="l_arm_ft_sensor" />
        <force_torque>
            <frame>child</frame>
            <measure_direction>child_to_parent</measure_direction>
        </force_torque>
    </sensor>
    <sensor type="force_torque" name="r_arm_ft_sensor">
        <parent joint="r_arm_ft_sensor" />
        <force_torque>
            <frame>child</frame>
            <measure_direction>child_to_parent</measure_direction>
        </force_torque>
    </sensor>
    <sensor type="force_torque" name="l_leg_ft_sensor">
        <parent joint="l_leg_ft_sensor" />
        <force_torque>
            <frame>child</frame>
            <measure_direction>child_to_parent</measure_direction>
        </force_torque>
    </sensor>
    <sensor type="force_torque" name="r_leg_ft_sensor">
        <parent joint="r_leg_ft_sensor" />
        <force_torque>
            <frame>child</frame>
            <measure_direction>child_to_parent</measure_direction>
        </force_torque>
    </sensor>
    <sensor type="force_torque" name="l_foot_ft_sensor">
        <parent joint="l_foot_ft_sensor" />
        <force_torque>
            <frame>child</frame>
            <measure_direction>child_to_parent</measure_direction>
        </force_torque>
    </sensor>
    <sensor type="force_torque" name="r_foot_ft_sensor">
        <parent joint="r_foot_ft_sensor" />
        <force_torque>
            <frame>child</frame>
            <measure_direction>child_to_parent</measure_direction>
        </force_torque>
    </sensor> -->
</robot>
